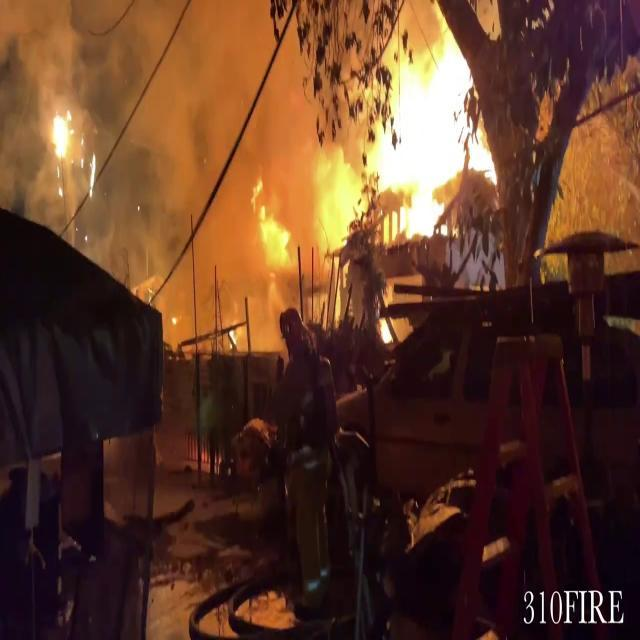Fire: (344, 3, 502, 241), (242, 166, 297, 274)
Smoke: (0, 0, 341, 338)
